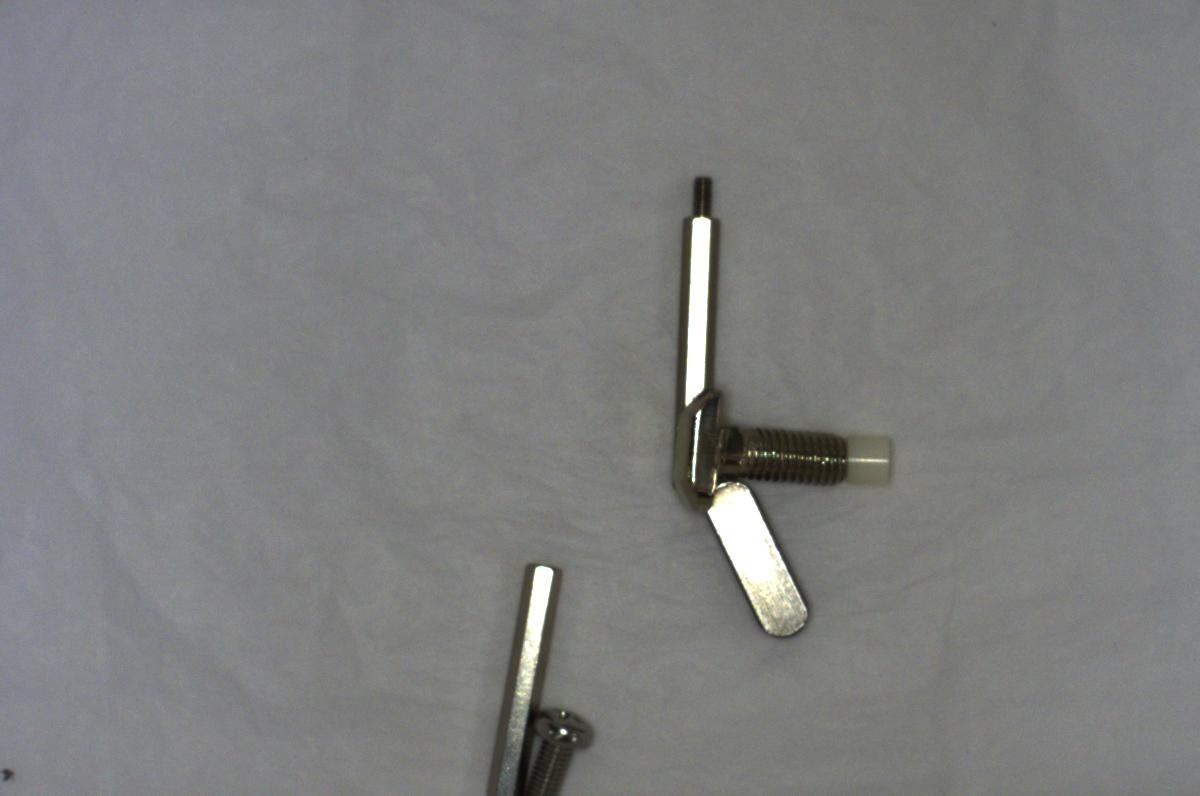Double hexagonal column: (479, 550, 561, 792)
Hexagonal steel column: (647, 169, 732, 512)
Keybar: (693, 474, 814, 641)
Plastic cushion pillar: (839, 417, 900, 494)
Round head screw: (528, 701, 614, 795)
T-shaped screw: (664, 386, 851, 508)
